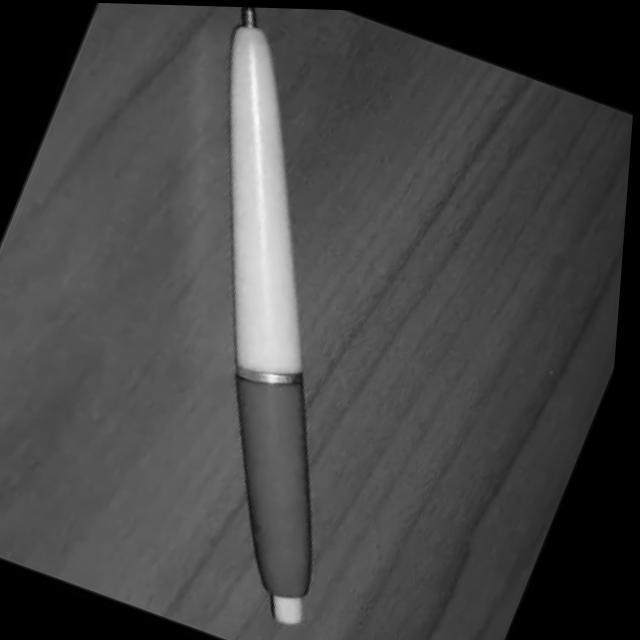pencil: (217, 0, 338, 629)
